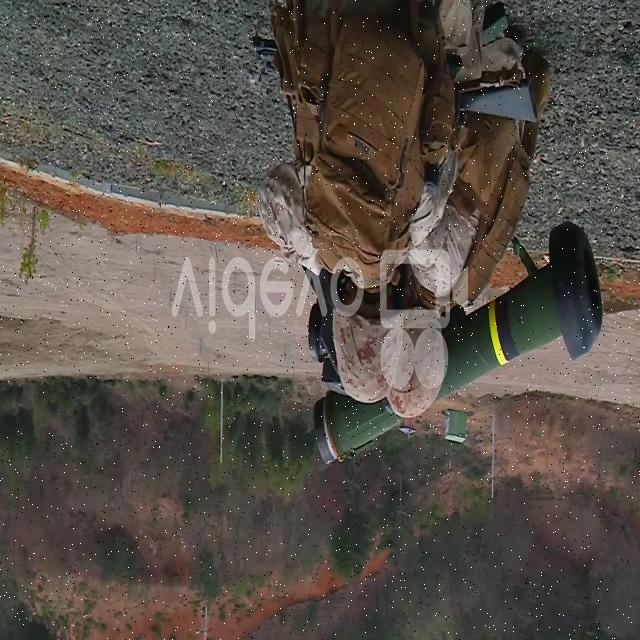bazooka: (313, 215, 610, 471)
